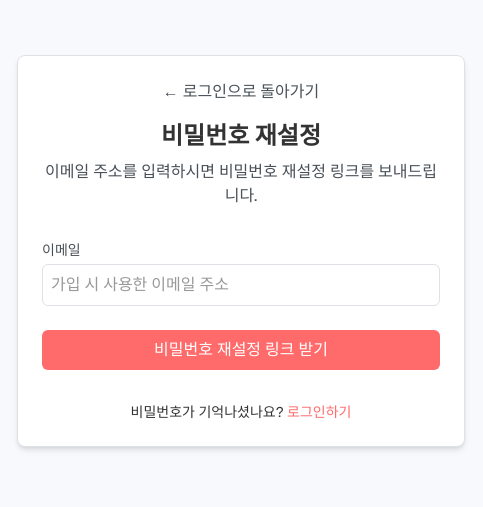
Test: ResetPassword Page › 유효하지 않은 이메일 주소를 입력하면 에러 메시지를 표시해야 함
The image size is (483, 507).
Type "invalid-email" into the field labelled "이메일".
click(241, 285); type("invalid-email")  # box [42, 264, 440, 306]
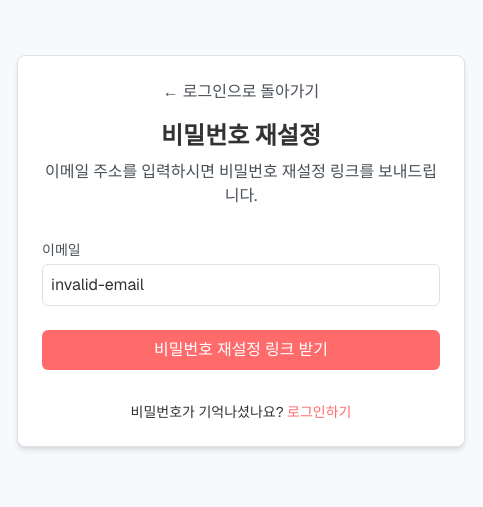
Submit the form, box [42, 240, 440, 370]
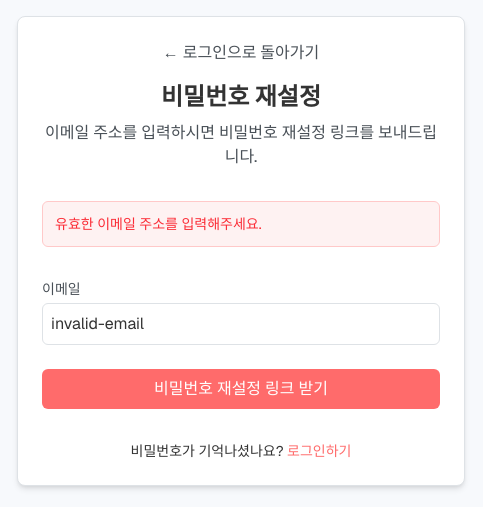
Expected: the text "유효한 이메일 주소를 입력해주세요." is shown, [42, 201, 440, 247]
